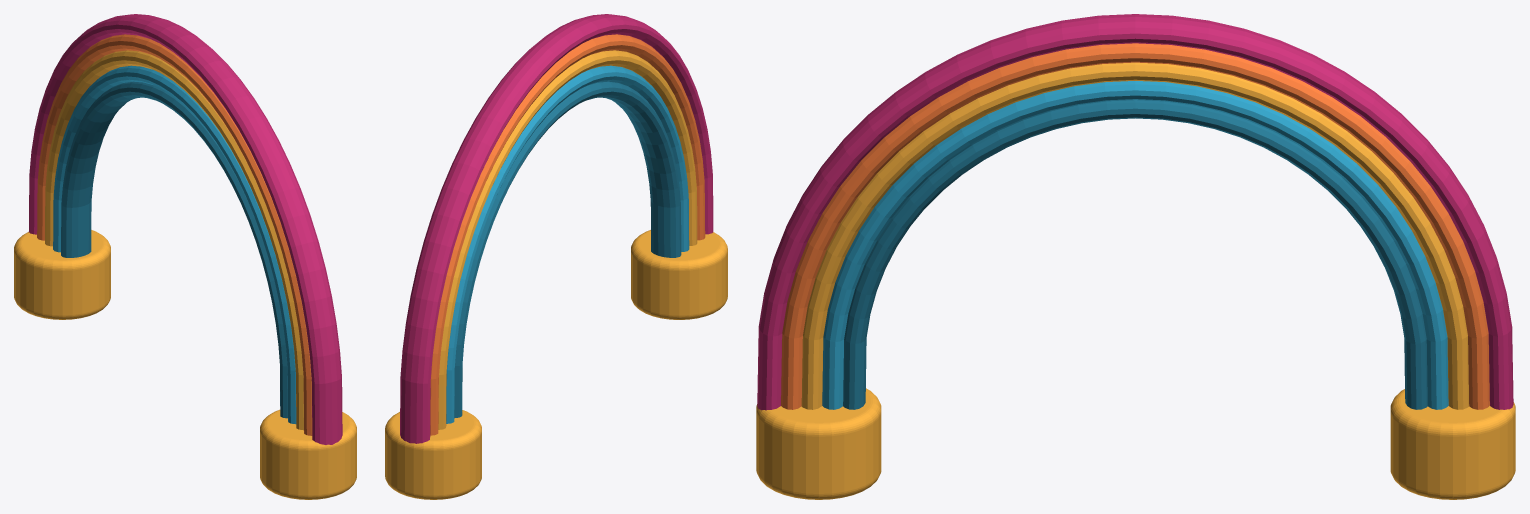
The model's file is Rainbow_Bridge.fbx.
The picture shows the model from 3 angles, left to right: view 1: azimuth 30°, elevation 25°; view 2: azimuth 150°, elevation 25°; view 3: azimuth 270°, elevation 25°; orthographic projection. The views are drawn at different scales.
Visible parts, largest first — view 1: Torus_4, Torus, Torus_3, Cylinder_6, Torus_2, Cylinder_5, Torus_1; view 2: Torus_4, Torus, Torus_3, Cylinder_5, Torus_2, Cylinder_6, Torus_1; view 3: Torus_4, Torus_3, Torus_2, Torus_1, Torus, Cylinder_5, Cylinder_6.
Boxes of the visible parts, x1,y1,x2,y2 form: Torus_4: [29, 14, 342, 444]; Torus: [61, 81, 287, 418]; Torus_3: [37, 34, 312, 435]; Cylinder_6: [14, 230, 110, 319]; Torus_2: [45, 50, 303, 430]; Cylinder_5: [260, 409, 356, 499]; Torus_1: [53, 65, 296, 424]; Torus_4: [400, 14, 713, 443]; Torus: [454, 81, 681, 418]; Torus_3: [430, 34, 705, 435]; Cylinder_5: [631, 230, 727, 319]; Torus_2: [438, 50, 697, 429]; Cylinder_6: [385, 410, 481, 499]; Torus_1: [446, 65, 689, 423]; Torus_4: [757, 14, 1513, 410]; Torus_3: [781, 43, 1489, 409]; Torus_2: [801, 62, 1469, 409]; Torus_1: [822, 81, 1448, 409]; Torus: [843, 100, 1427, 409]; Cylinder_5: [756, 388, 881, 499]; Cylinder_6: [1390, 389, 1515, 499].
Size of the model in its own units: 487 by 1967 by 2943.
